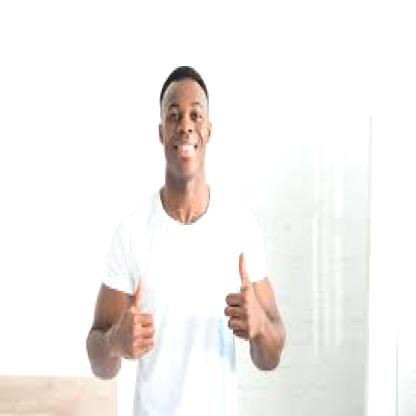Thumbs up: (116, 267, 162, 373), (218, 241, 264, 344)
